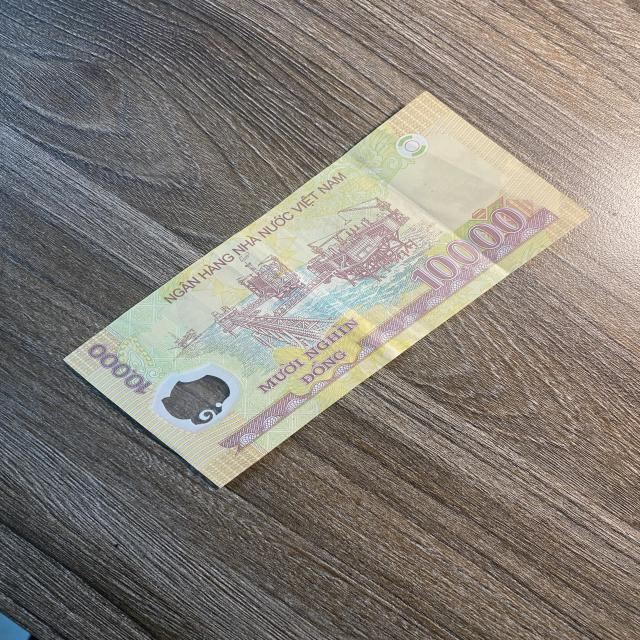10 000 VND: (59, 90, 588, 491)
